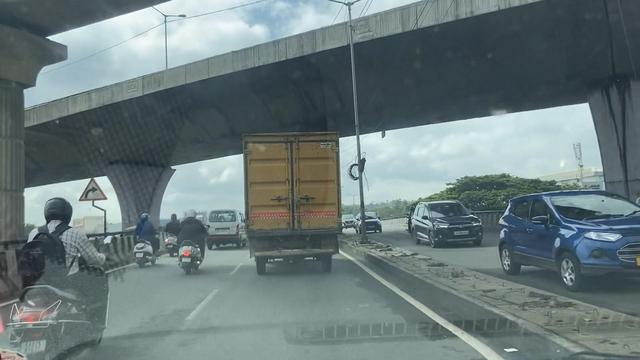HMV: (243, 136, 341, 270)
LMV: (12, 204, 100, 355), (177, 206, 201, 276), (133, 206, 156, 262)
